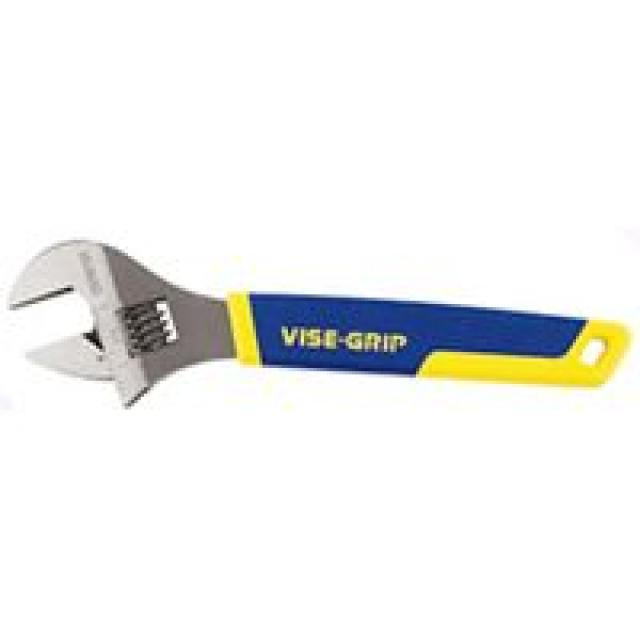wrench: (0, 181, 635, 416)
